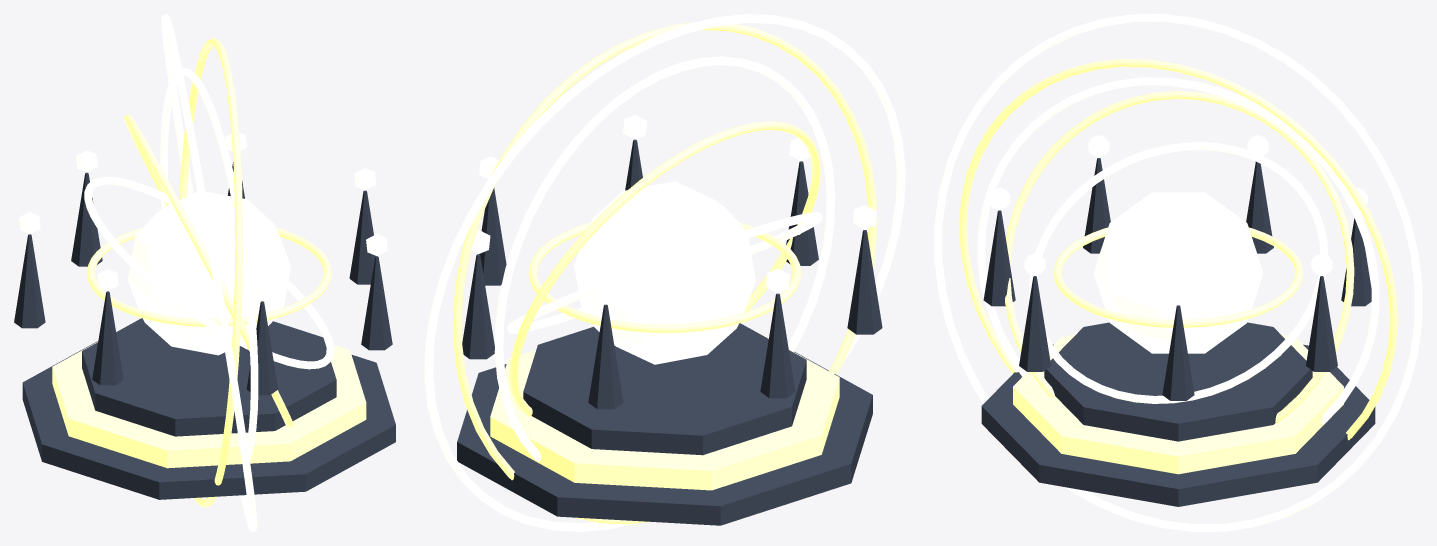
The model's file is gpu-blender-v31.glb.
3 views of the same model, side by side, from view 1: azimuth 30°, elevation 25°; view 2: azimuth 150°, elevation 25°; view 3: azimuth 270°, elevation 25° (orthographic). The views are drawn at different scales.
Visible parts, largest first — view 1: Cylinder.002, Cylinder, SovereignCore_certpath-roadmap-studio, Cylinder.001, Torus.005, Torus.004, Torus.003, Torus.001, Torus, Torus.002, Cone.003, Cone.006 (+4 smaller); view 2: Cylinder.002, SovereignCore_certpath-roadmap-studio, Cylinder, Cylinder.001, Torus.005, Torus.003, Torus.004, Torus.002, Torus.001, Torus, Cone.002, Cone.003 (+4 smaller); view 3: SovereignCore_certpath-roadmap-studio, Cylinder.002, Cylinder, Cylinder.001, Torus.005, Torus.004, Torus.003, Torus.002, Torus.001, Torus, Cone, Cone.001 (+5 smaller).
Part boxes in pixels (x1,y1,x2,y2): Cylinder.002: [82, 318, 336, 436]; Cylinder: [22, 341, 395, 499]; SovereignCore_certpath-roadmap-studio: [127, 191, 290, 355]; Cylinder.001: [52, 325, 366, 468]; Torus.005: [161, 14, 257, 531]; Torus.004: [179, 38, 242, 507]; Torus.003: [160, 68, 258, 459]; Torus.001: [84, 176, 334, 369]; Torus: [87, 227, 331, 326]; Torus.002: [124, 114, 293, 426]; Cone.003: [14, 234, 45, 328]; Cone.006: [361, 256, 392, 350]; Cylinder.002: [523, 323, 806, 455]; SovereignCore_certpath-roadmap-studio: [574, 181, 755, 364]; Cylinder: [457, 351, 872, 525]; Cylinder.001: [490, 330, 839, 490]; Torus.005: [424, 14, 905, 531]; Torus.003: [494, 56, 835, 461]; Torus.004: [453, 22, 876, 524]; Torus.002: [509, 121, 820, 416]; Torus.001: [507, 212, 822, 333]; Torus: [528, 222, 801, 333]; Cone.002: [588, 304, 623, 409]; Cone.003: [760, 293, 795, 398]; SovereignCore_certpath-roadmap-studio: [1093, 192, 1263, 353]; Cylinder.002: [1044, 322, 1312, 441]; Cylinder: [981, 344, 1375, 506]; Cylinder.001: [1013, 334, 1343, 474]; Torus.005: [934, 14, 1422, 531]; Torus.004: [959, 59, 1397, 440]; Torus.003: [977, 77, 1379, 424]; Torus.002: [1005, 91, 1354, 423]; Torus.001: [1029, 142, 1327, 403]; Torus: [1053, 227, 1303, 327]; Cone: [1162, 305, 1194, 400]; Cone.001: [1306, 276, 1337, 371].
Size of the model in its own units: 4.41 by 5.93 by 5.46.
